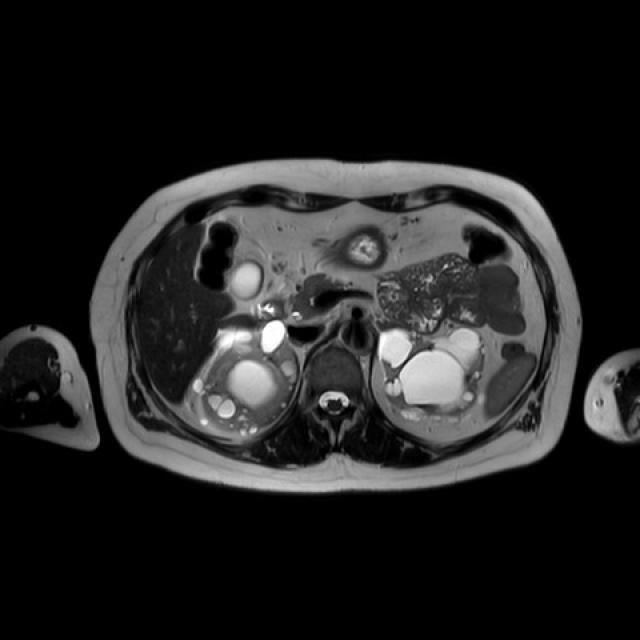sag: (193, 318, 298, 436)
sol: (377, 325, 486, 426)
